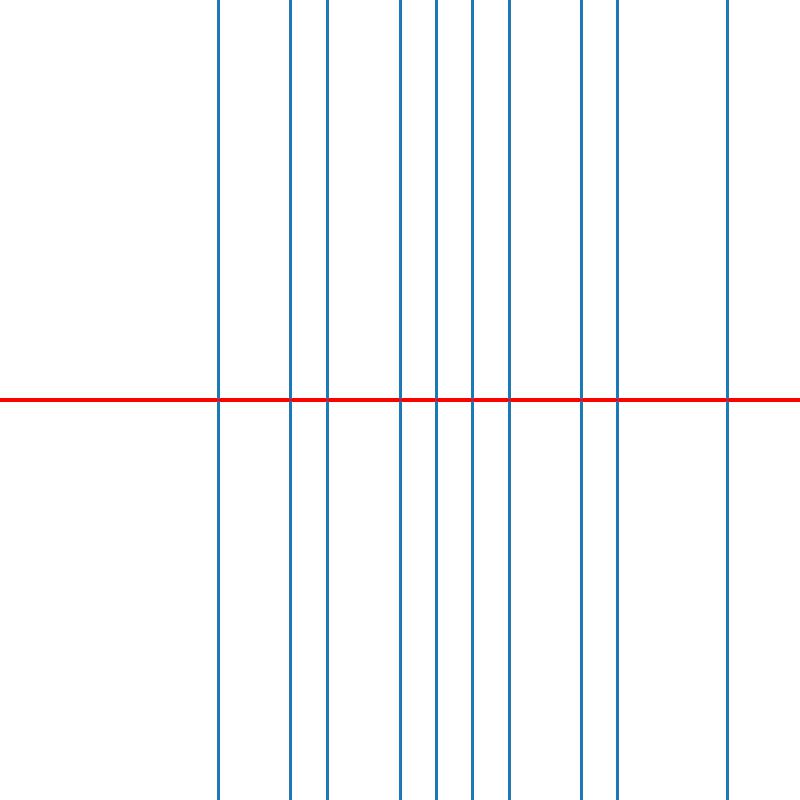root: (432, 396, 440, 404), (578, 396, 585, 404), (614, 396, 621, 404), (396, 396, 403, 404), (214, 396, 221, 404), (287, 396, 294, 404), (505, 396, 512, 404), (323, 396, 330, 404), (469, 396, 476, 404), (723, 396, 730, 404)
